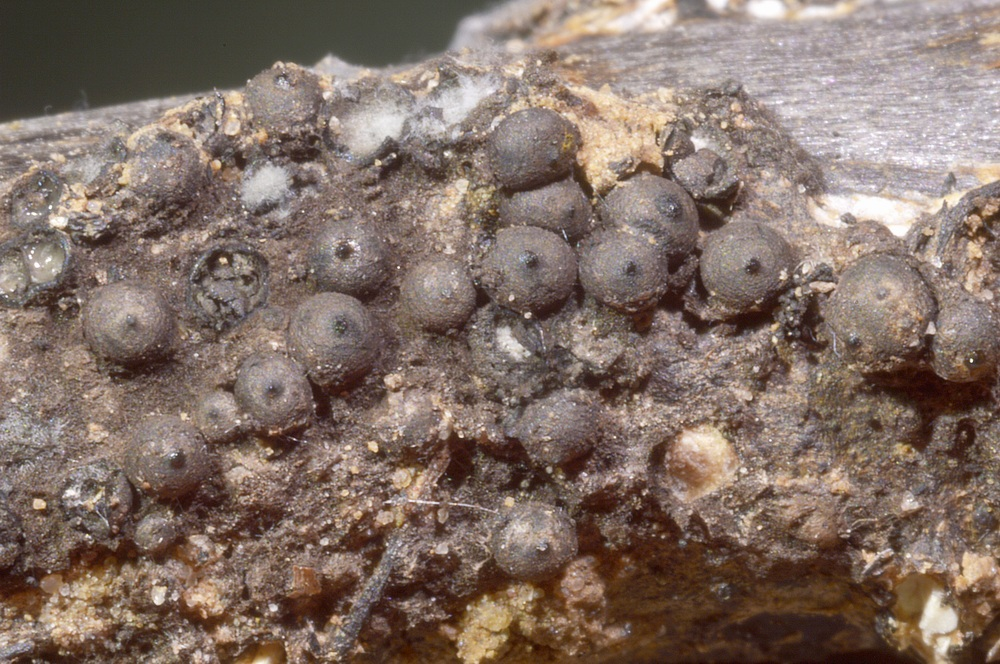pudricion radicular: (36, 72, 991, 616)
